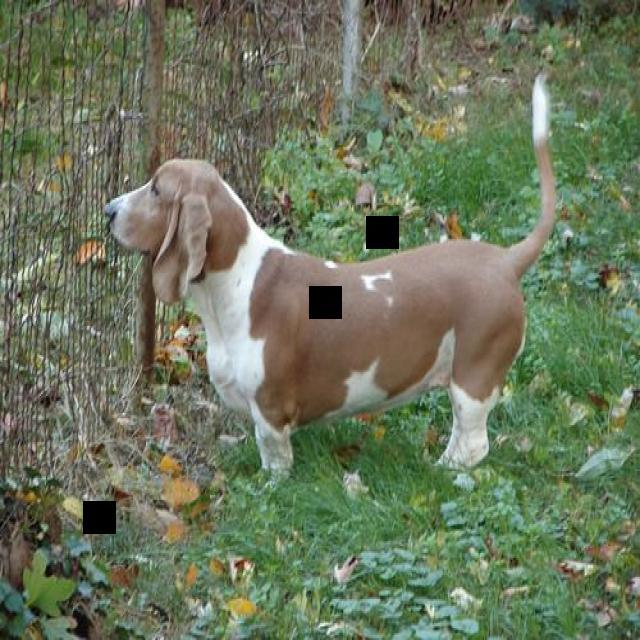adult_dog: (102, 74, 562, 495)
